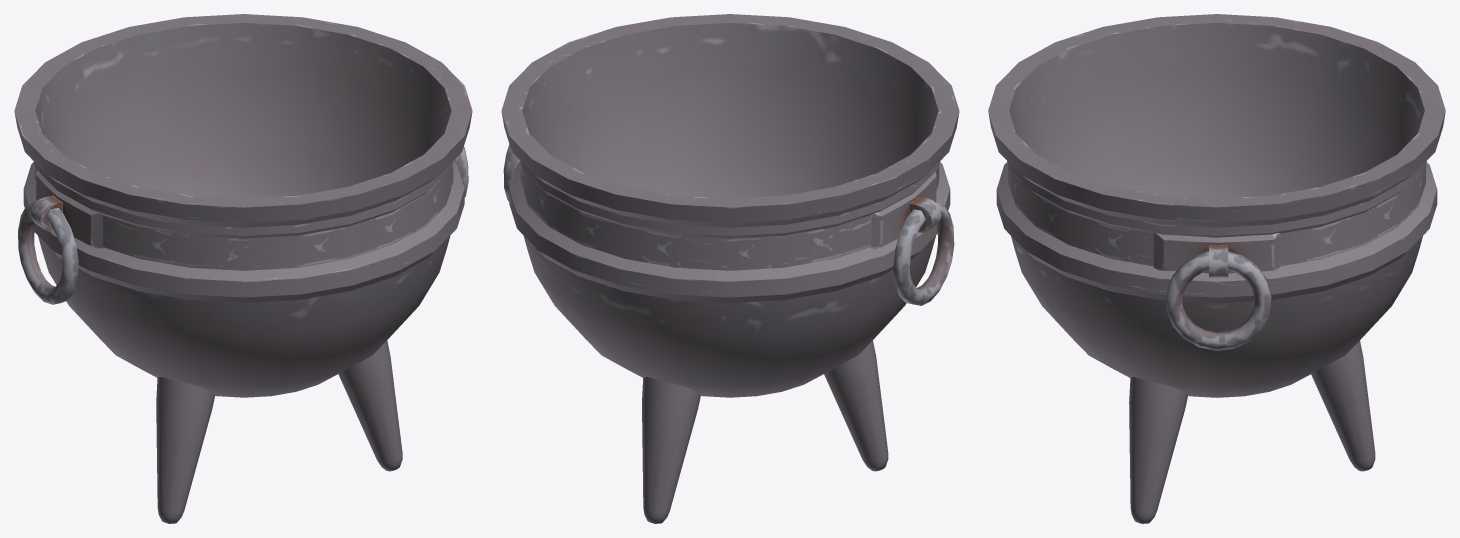
The model's file is Cauldron.glb.
3 views of the same model, side by side, from view 1: azimuth 30°, elevation 25°; view 2: azimuth 150°, elevation 25°; view 3: azimuth 270°, elevation 25° (orthographic).
Parts seen in each view (by area): view 1: Cauldron; view 2: Cauldron; view 3: Cauldron.
Boxes of the visible parts, <box> form: Cauldron: <box>14,14,472,523</box>; Cauldron: <box>501,14,959,523</box>; Cauldron: <box>988,14,1445,523</box>.
Bounding box in the file's own units: 0.9891 × 0.8156 × 0.9439.
Materials: 1 (1 with a texture image).
